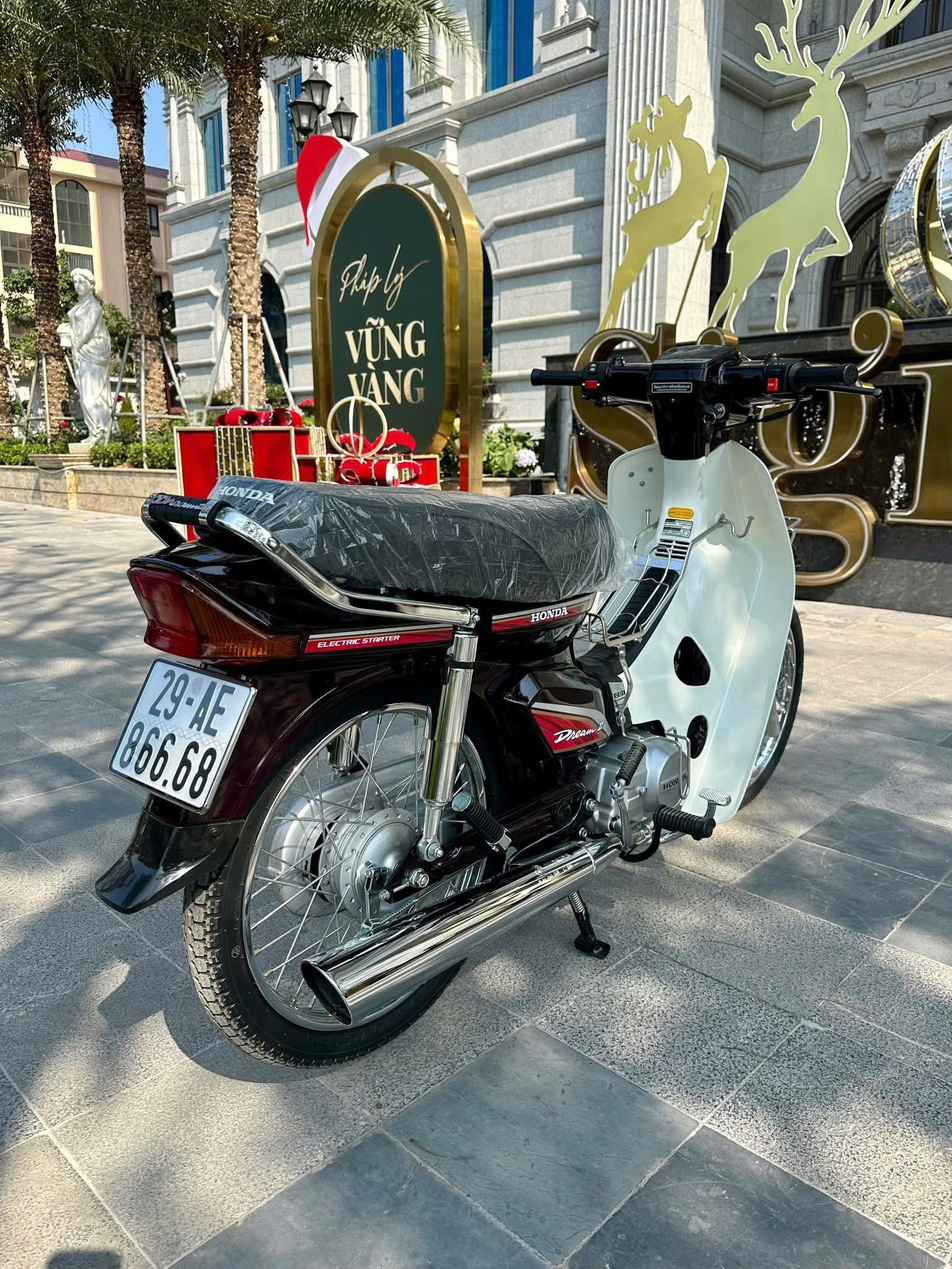bien_so: (101, 654, 266, 819)
